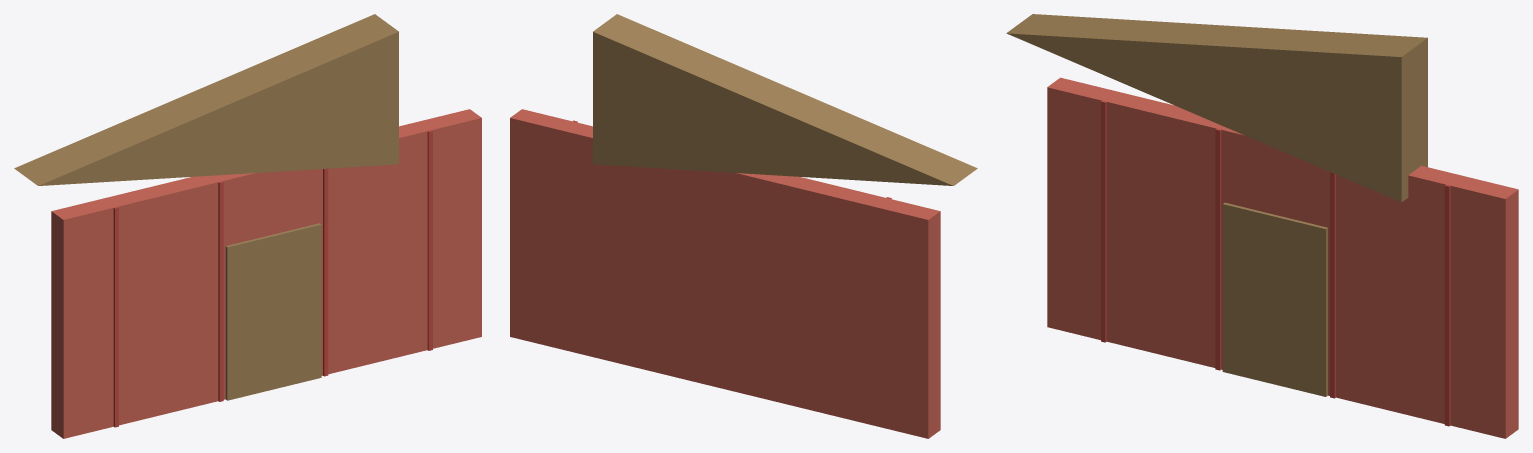
The model's file is barnwall.glb.
3 views of the same model, side by side, from view 1: azimuth 30°, elevation 25°; view 2: azimuth 150°, elevation 25°; view 3: azimuth 330°, elevation 25° (orthographic). The views are drawn at different scales.
Visible parts, largest first — view 1: Wall, Roof, Door, Plank, Plank.001, Plank.003, Plank.002; view 2: Wall, Roof; view 3: Wall, Roof, Door, Plank.001, Plank.003, Plank, Plank.002.
Boxes of the visible parts, x1,y1,x2,y2 form: Wall: (51, 109, 481, 438); Roof: (14, 14, 398, 185); Door: (225, 223, 321, 400); Plank: (113, 207, 118, 427); Plank.001: (218, 181, 223, 401); Plank.003: (427, 130, 432, 350); Plank.002: (323, 168, 328, 376); Wall: (510, 109, 940, 438); Roof: (593, 14, 977, 185); Wall: (1047, 77, 1518, 438); Roof: (1006, 14, 1427, 202); Door: (1222, 202, 1327, 396); Plank.001: (1215, 129, 1221, 370); Plank.003: (1444, 184, 1450, 426); Plank: (1101, 100, 1106, 342); Plank.002: (1330, 172, 1335, 398).
Size of the model in its own units: 4.3 by 3.03 by 0.4.
